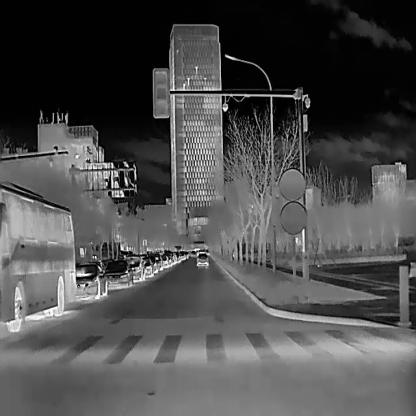bus: (0, 180, 74, 332)
car: (75, 262, 108, 299), (104, 259, 134, 287), (123, 254, 144, 281), (141, 254, 152, 276), (195, 252, 208, 266), (153, 252, 162, 270), (149, 253, 157, 273), (160, 252, 168, 267), (166, 250, 174, 264)
